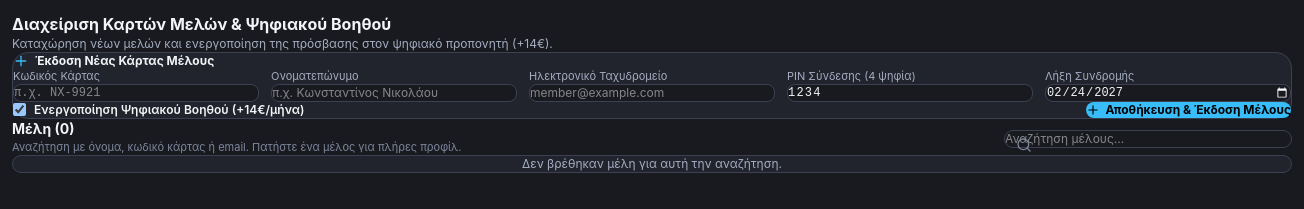
Test case: MembersTab (admin member CRUD) › shows a retry-worthy error and keeps the form when the save is rejected
Type "NX-8492" into the field with placeholder "π.χ. NX-9921" at (136,93), box 13,84 -> 259,102
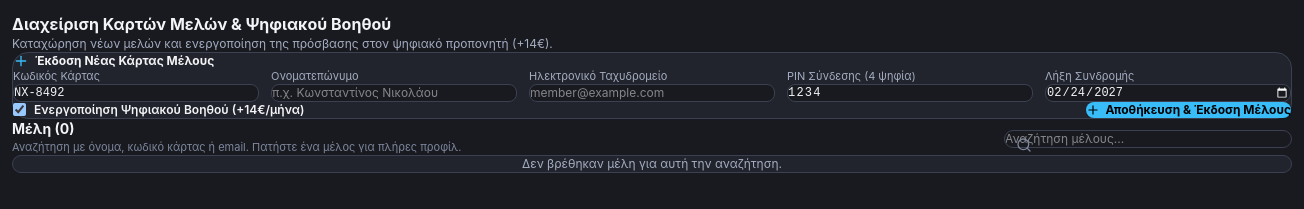
Type "Διπλό" into the field with placeholder "π.χ. Κωνσταντίνος Νικολάου" at (394,93), box 271,84 -> 517,102
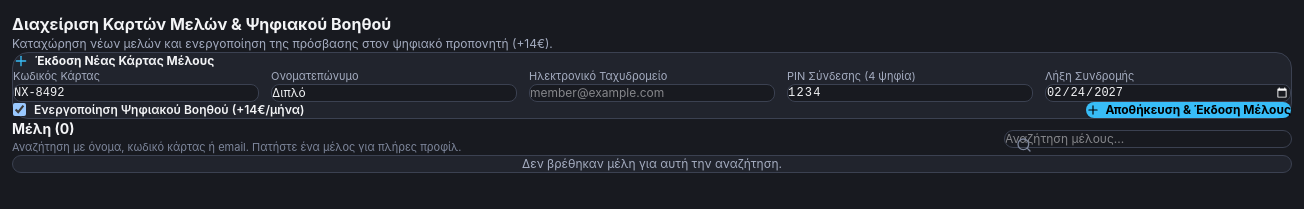
Type "dup@example.com" into the field with placeholder "member@example.com" at (652,93), box 529,84 -> 775,102
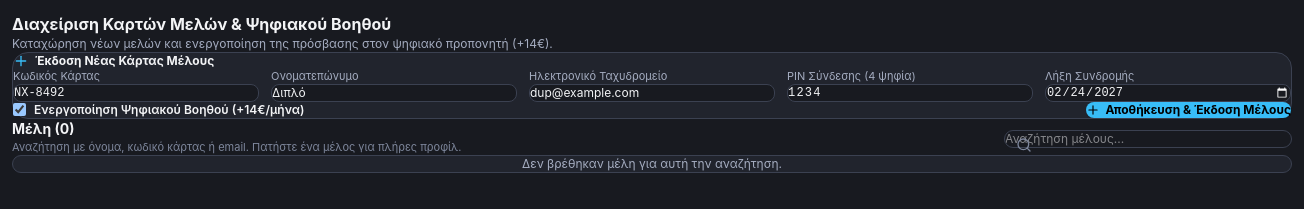
Click the button "Αποθήκευση & Έκδοση Μέλους" at (1188,110), box 1086,102 -> 1291,118
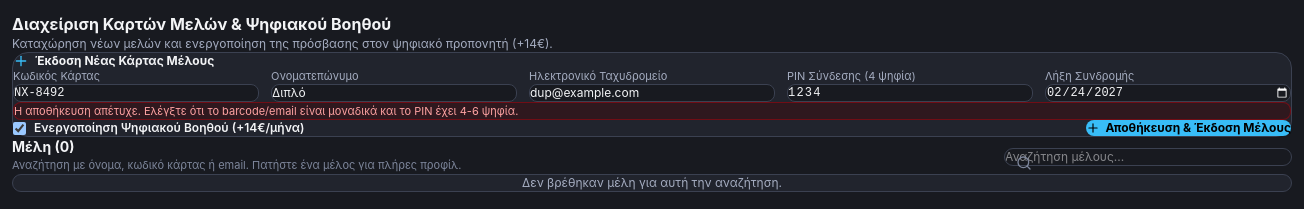
Expected: the text "Η αποθήκευση απέτυχε. Ελέγξτε ότι το barcode/email" is shown, 14,104 -> 518,118
